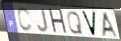A: (101, 12, 120, 40)
C: (16, 7, 34, 33)
H: (47, 8, 69, 36)
J: (37, 9, 49, 33)
Q: (67, 11, 85, 36)
V: (81, 10, 98, 38)
